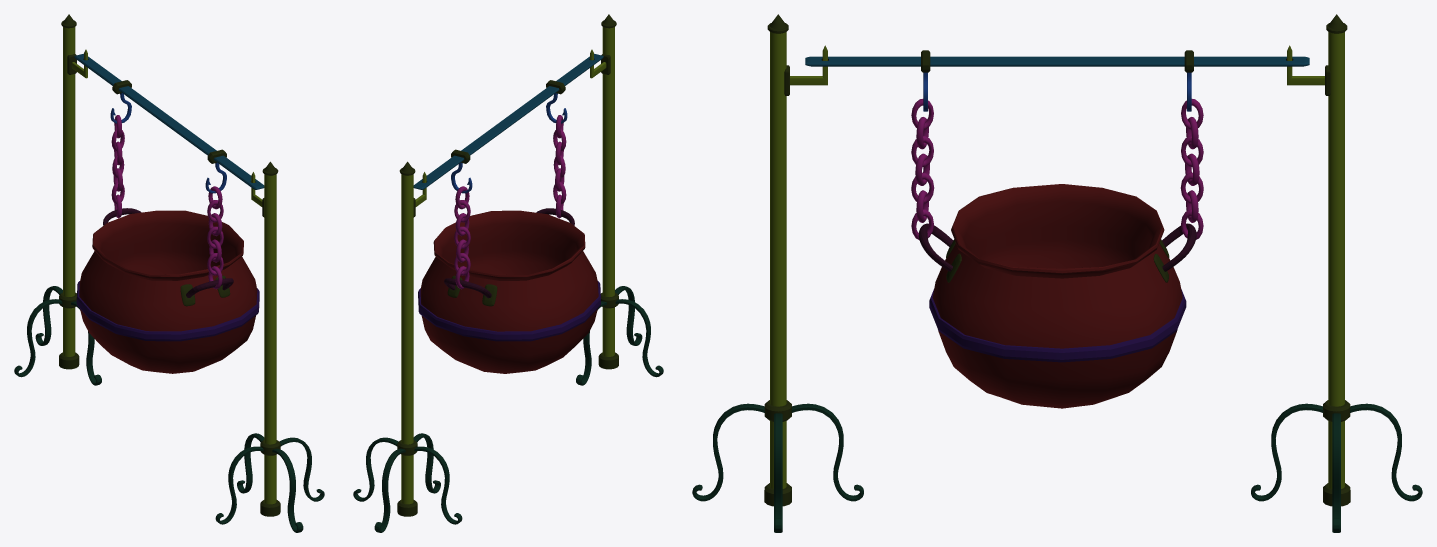
Rendered from MESH_CookingCauldron.fbx.
3 views of the same model, side by side, from view 1: azimuth 30°, elevation 25°; view 2: azimuth 150°, elevation 25°; view 3: azimuth 270°, elevation 25° (orthographic). The views are drawn at different scales.
Parts seen in each view (by area): view 1: MESH_CookingCauldron; view 2: MESH_CookingCauldron; view 3: MESH_CookingCauldron.
Part boxes in pixels (<box>): MESH_CookingCauldron: <box>14,14,324,532</box>; MESH_CookingCauldron: <box>353,14,663,532</box>; MESH_CookingCauldron: <box>692,14,1422,532</box>.
Size of the model in its own units: 0.9106 by 1.98 by 2.68.
